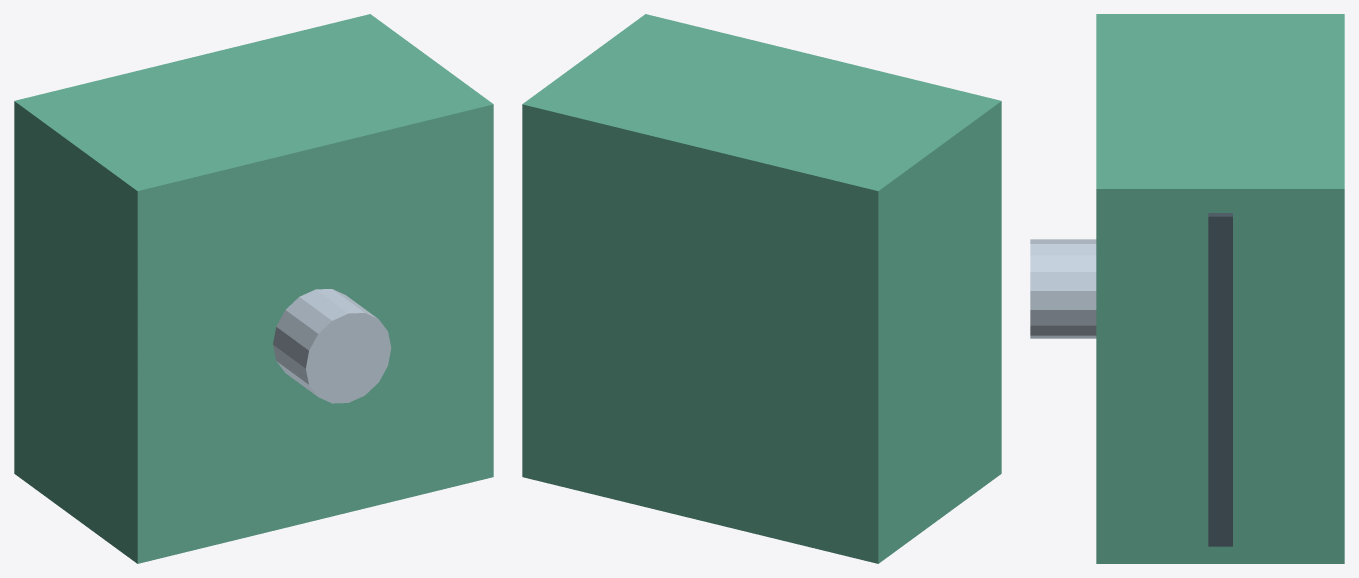
The model's file is battery.glb.
3 renders of one model, left to right at view 1: azimuth 30°, elevation 25°; view 2: azimuth 150°, elevation 25°; view 3: azimuth 270°, elevation 25°, orthographic.
Visible parts, largest first — view 1: Battery_Main, Battery_Terminal; view 2: Battery_Main; view 3: Battery_Main, Battery_Terminal, Battery_Grill_0, Battery_Grill_2, Battery_Grill_1.
Boxes of the visible parts, bbox=[...] form: Battery_Main: bbox=[14, 14, 493, 563]; Battery_Terminal: bbox=[273, 289, 391, 403]; Battery_Main: bbox=[522, 14, 1001, 563]; Battery_Main: bbox=[1096, 14, 1344, 563]; Battery_Terminal: bbox=[1030, 239, 1096, 338]; Battery_Grill_0: bbox=[1208, 366, 1232, 546]; Battery_Grill_2: bbox=[1208, 213, 1232, 396]; Battery_Grill_1: bbox=[1208, 291, 1232, 469].
Bounding box in the file's own units: 0.515 × 0.5 × 0.38.
